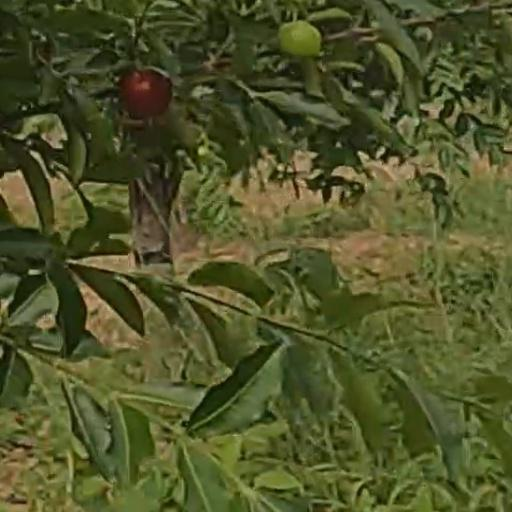acerola: (123, 70, 170, 117), (279, 20, 321, 59)
